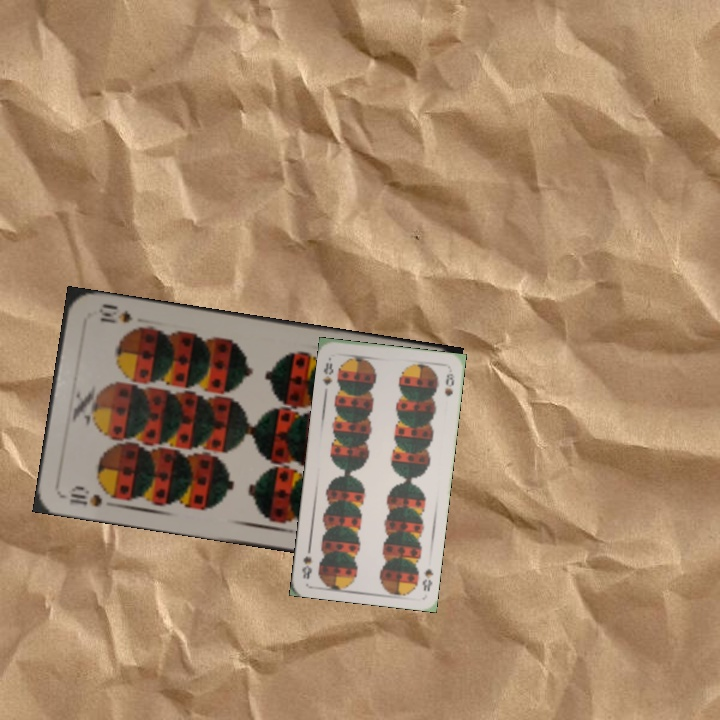S10: (65, 482, 120, 509)
S8: (418, 564, 436, 594), (319, 359, 336, 388)
